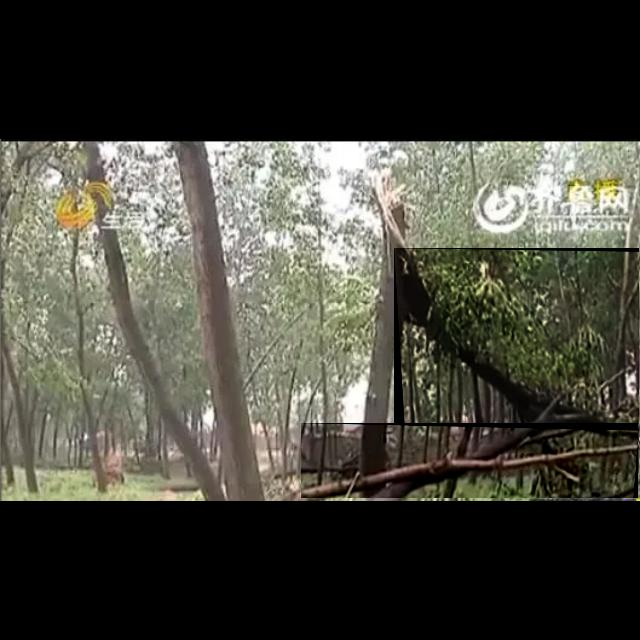Fallen Tree: (394, 248, 640, 474), (301, 423, 639, 499)
